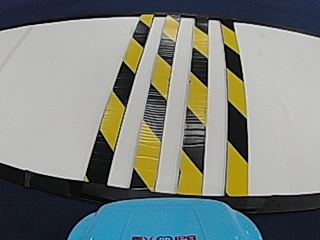bump: (84, 17, 255, 188)
